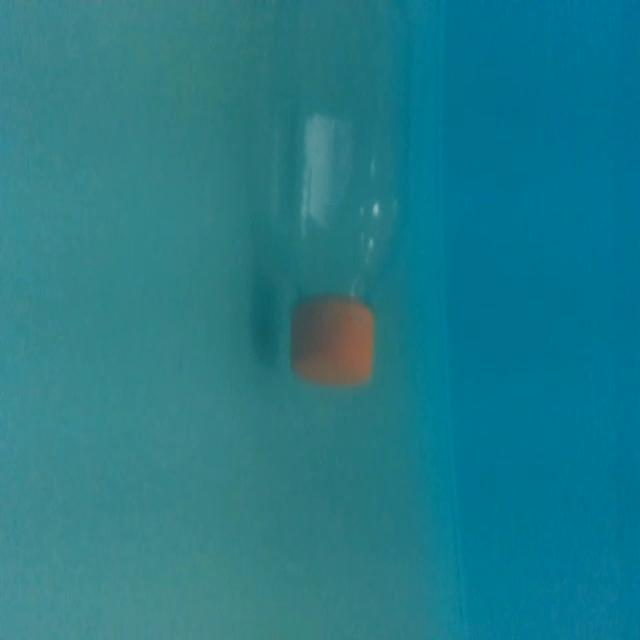plastic bottle: (263, 0, 418, 391)
